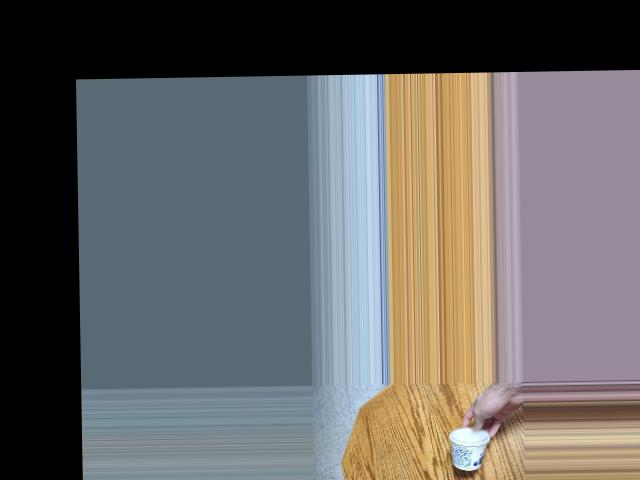cotage: (445, 420, 491, 465)
